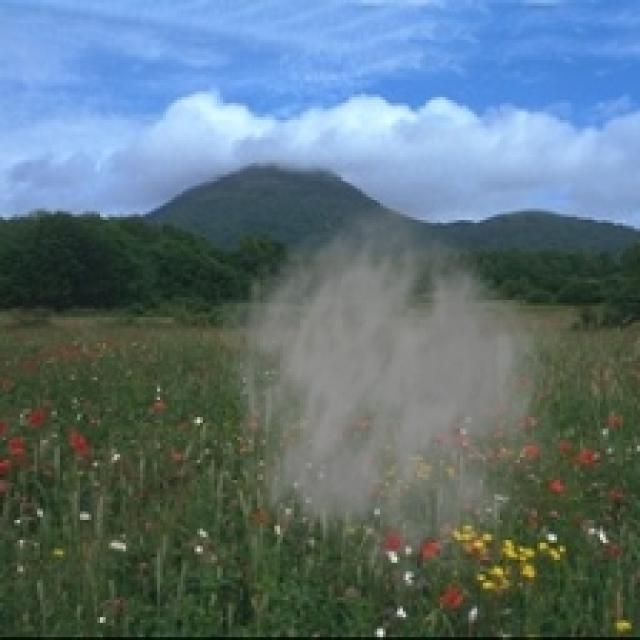Smoke: (217, 203, 574, 600)
